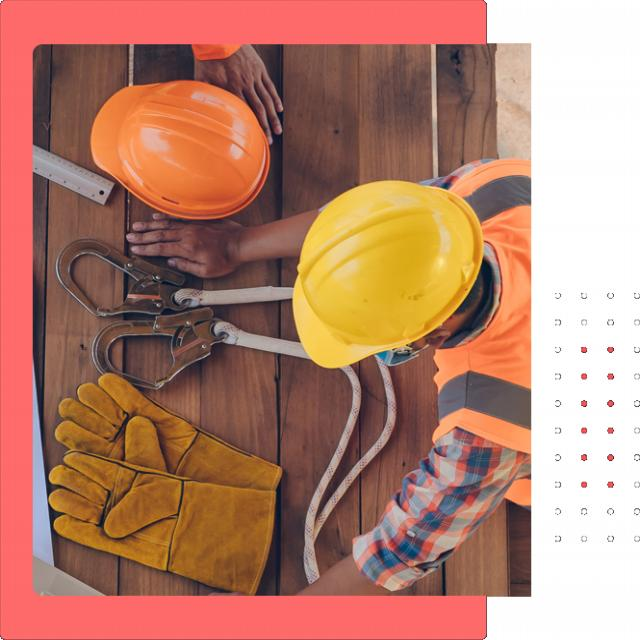Reflective-Jacket: (421, 175, 530, 586)
Safety-Helmet: (289, 180, 483, 365), (89, 76, 274, 221)
